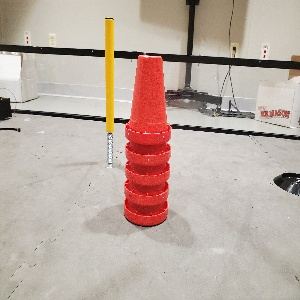Red_5: (125, 54, 171, 226)
